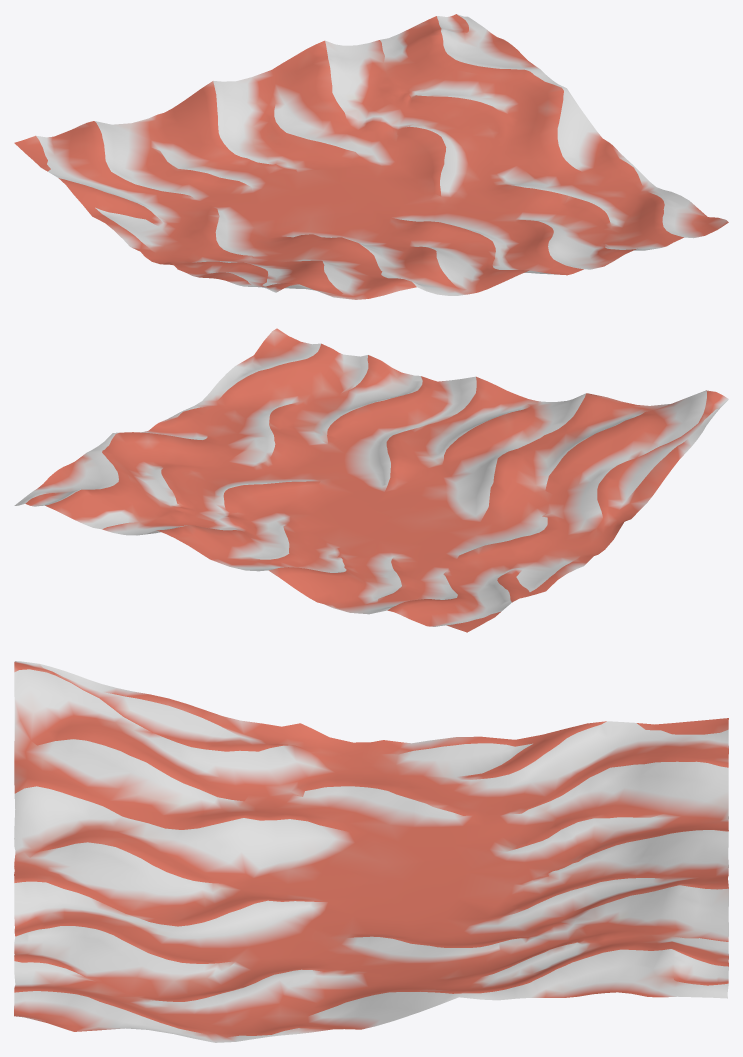
Rendered from SandDunes2.fbx.
The picture shows the model from 3 angles, top to bottom: view 1: azimuth 30°, elevation 25°; view 2: azimuth 150°, elevation 25°; view 3: azimuth 270°, elevation 25°; orthographic projection. The views are drawn at different scales.
Visible parts, largest first — view 1: Desert.009; view 2: Desert.009; view 3: Desert.009.
Boxes of the visible parts, x1,y1,x2,y2 form: Desert.009: [14, 14, 728, 299]; Desert.009: [14, 328, 728, 632]; Desert.009: [14, 661, 728, 1042].
Bounding box in the file's own units: 19.86 × 2.9 × 19.86.
